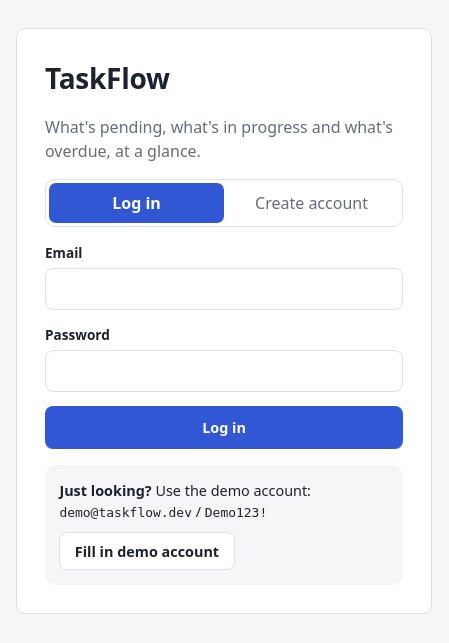
AuthPage › registers through the Create account tab and shows the password rules next to the field
Click the tab "Create account": coordinates (312, 203) x1=224 y1=183 x2=399 y2=223
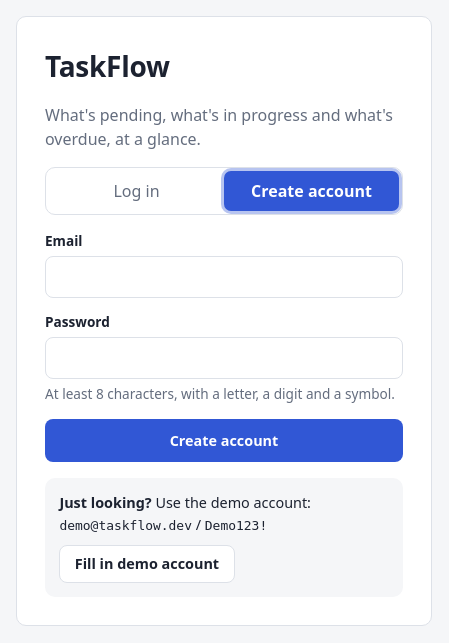
In the field labelled "Email": coordinates (224, 277) x1=45 y1=256 x2=403 y2=298, type "me@example.com"
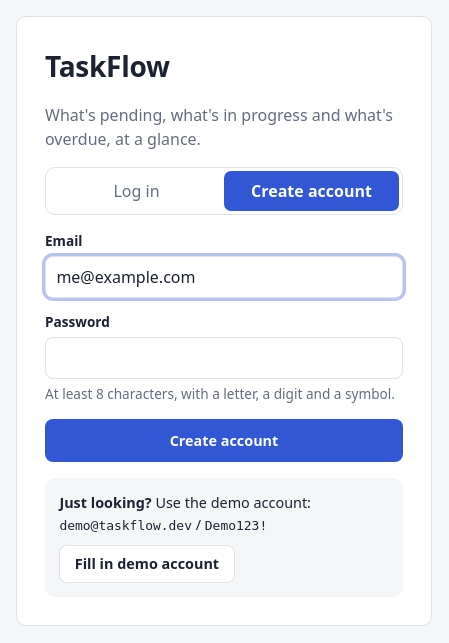
In the password field labelled "Password": coordinates (224, 358) x1=45 y1=337 x2=403 y2=379, type "NoDigits!"
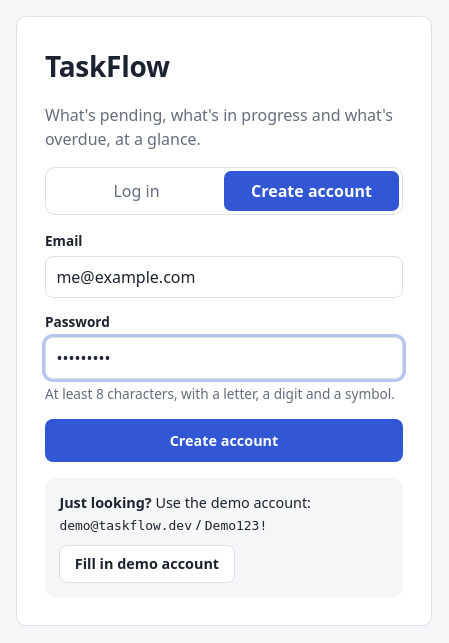
Click the button "Create account": coordinates (224, 440) x1=45 y1=419 x2=403 y2=462
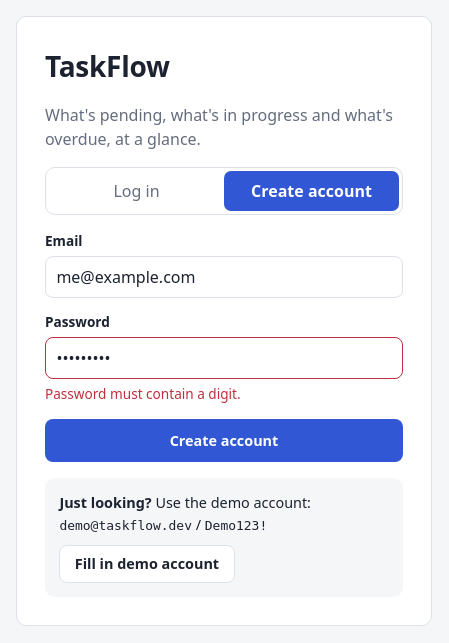
Result: the text "Password must contain a digit." is shown at x1=45 y1=384 x2=241 y2=403
